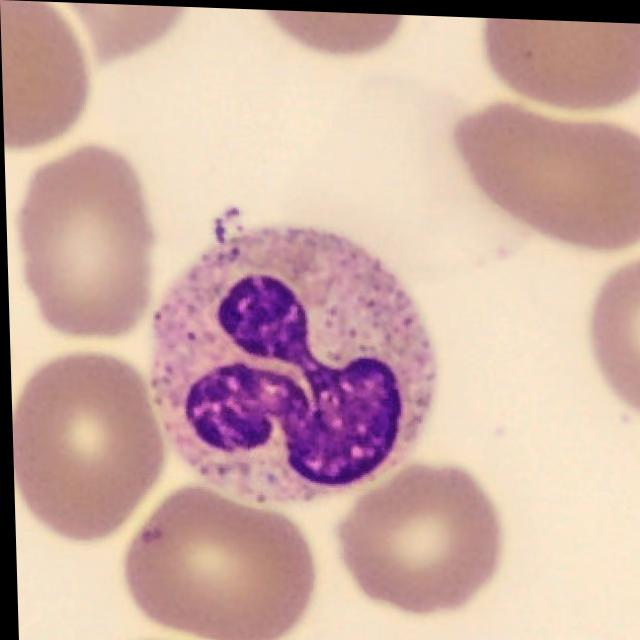Neutrofilo segmentado: (151, 208, 434, 503)
